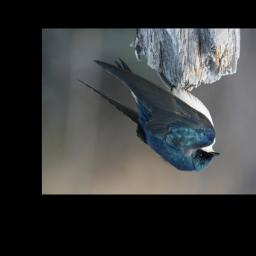Swallow: (76, 58, 220, 172)
